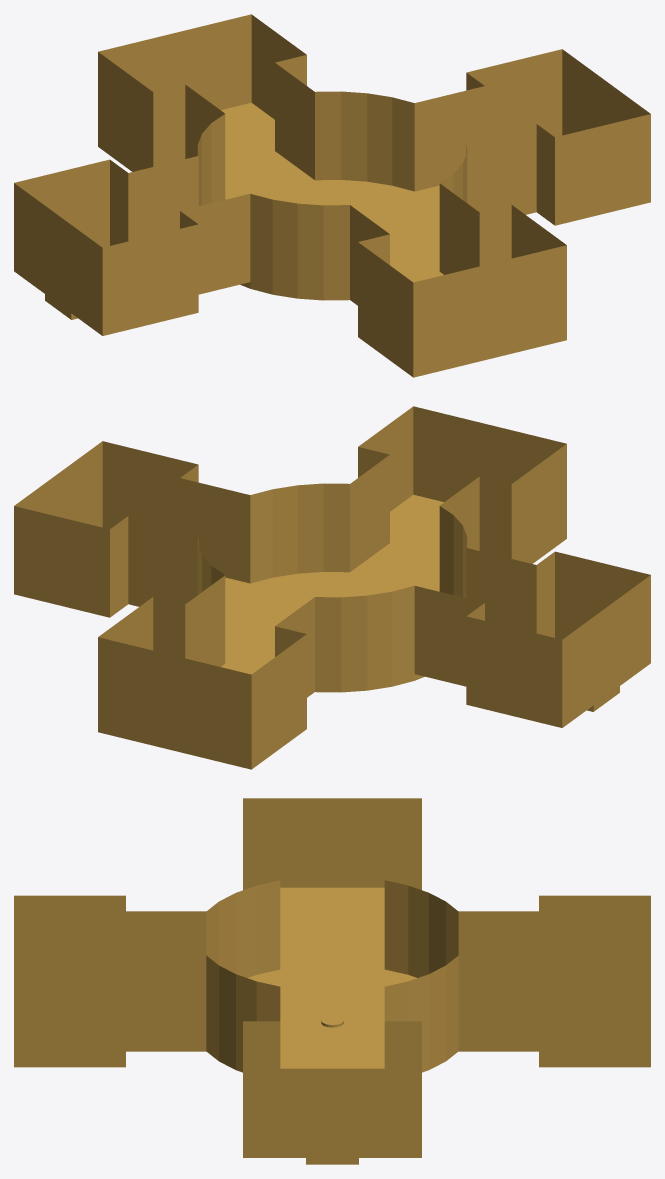
File: heist map.obj
3 views of the same model, one above another, from view 1: azimuth 30°, elevation 25°; view 2: azimuth 150°, elevation 25°; view 3: azimuth 270°, elevation 25° (orthographic).
Parts seen in each view (by area): view 1: Cylinder; view 2: Cylinder; view 3: Cylinder.
Part boxes in pixels (x1,y1,x2,y2): Cylinder: (14,14,650,377); Cylinder: (14,406,650,769); Cylinder: (14,798,650,1164).
Size of the model in its own units: 171 by 28.42 by 171.
